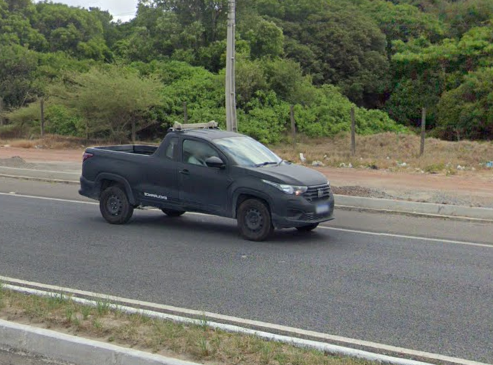car: (74, 118, 339, 241)
